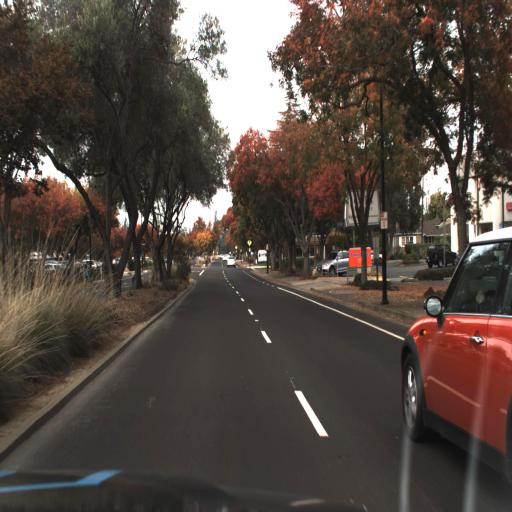car: (404, 235, 510, 509), (316, 249, 348, 279), (426, 243, 455, 266), (226, 255, 236, 268)
